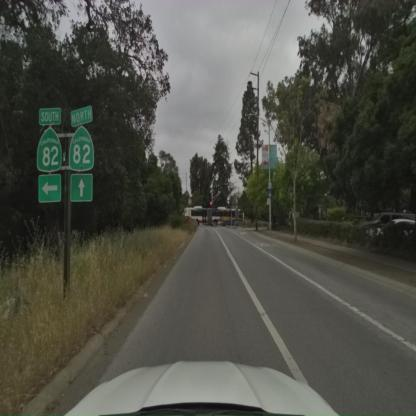car: (360, 213, 415, 243)
